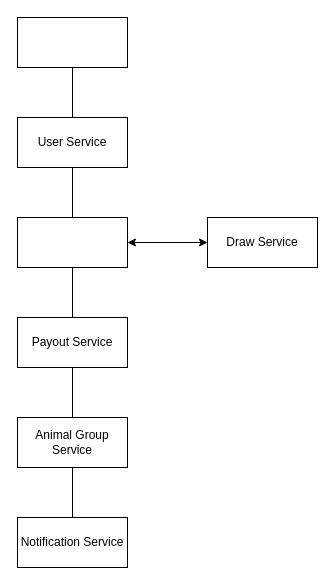
Some shapes in this 335 by 585 pixel diagram are drawn without their labels. Here are the shapes that lost their labels. From the top down, the centre of each, then its label:
the point at 72,42: Auth Service
the point at 72,242: Bet Service
